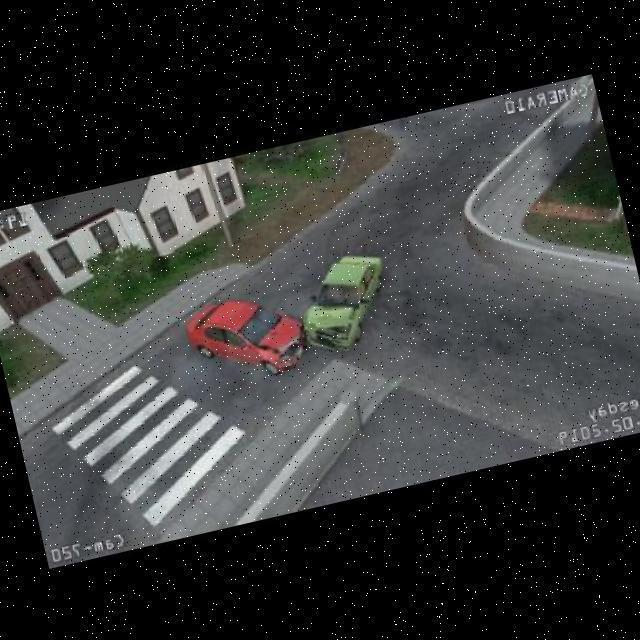accident: (187, 263, 390, 394)
